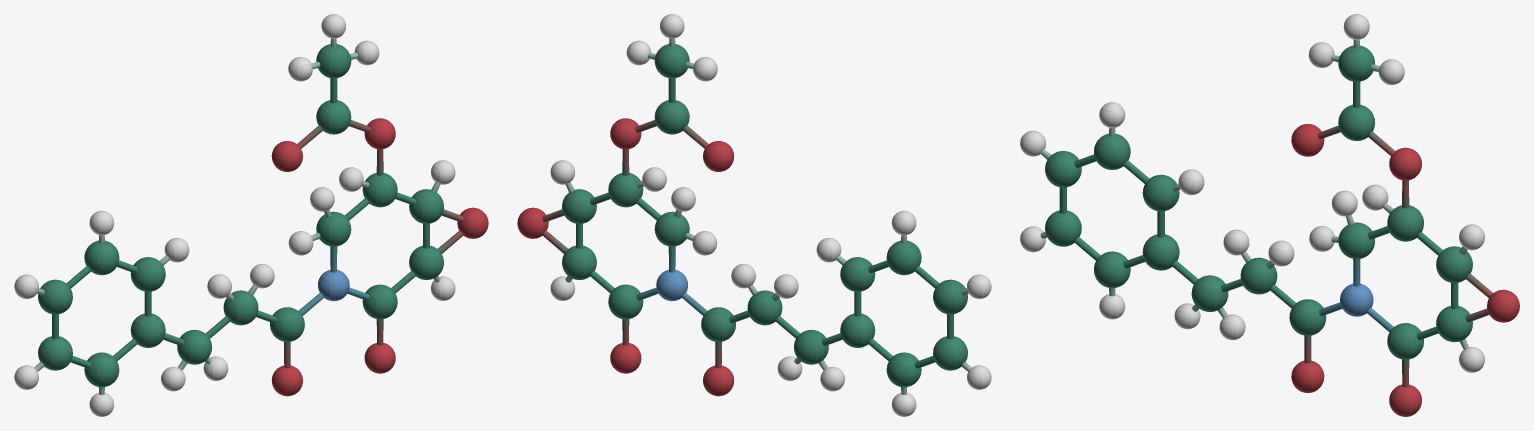
The model's file is Pipermethystine.fbx.
3 views of the same model, side by side, from view 1: azimuth 30°, elevation 25°; view 2: azimuth 150°, elevation 25°; view 3: azimuth 330°, elevation 25° (orthographic). The views are drawn at different scales.
Visible parts, largest first — view 1: curMeshHyperballExportedMesh; view 2: curMeshHyperballExportedMesh; view 3: curMeshHyperballExportedMesh.
Boxes of the visible parts, x1=… form: curMeshHyperballExportedMesh: x1=14, y1=14, x2=488, y2=416; curMeshHyperballExportedMesh: x1=517, y1=14, x2=991, y2=416; curMeshHyperballExportedMesh: x1=1020, y1=14, x2=1519, y2=416.
Bounding box in the file's own units: 8.78 × 6.57 × 0.5667.
